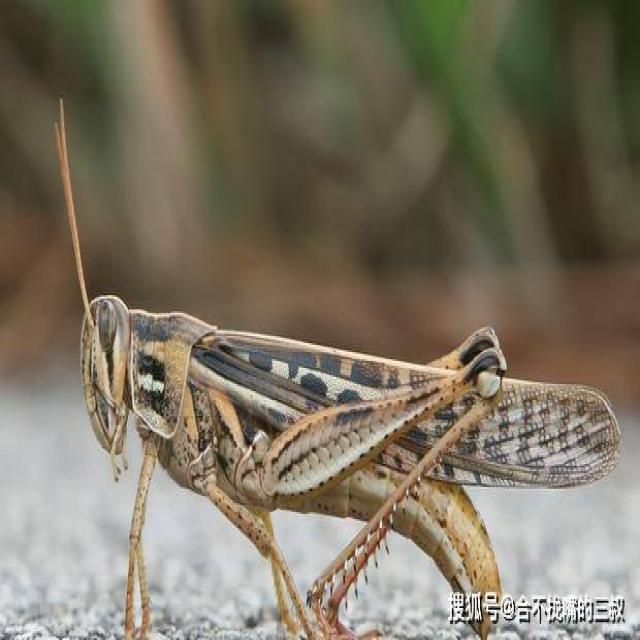ZhaMeng: (42, 232, 621, 611)
